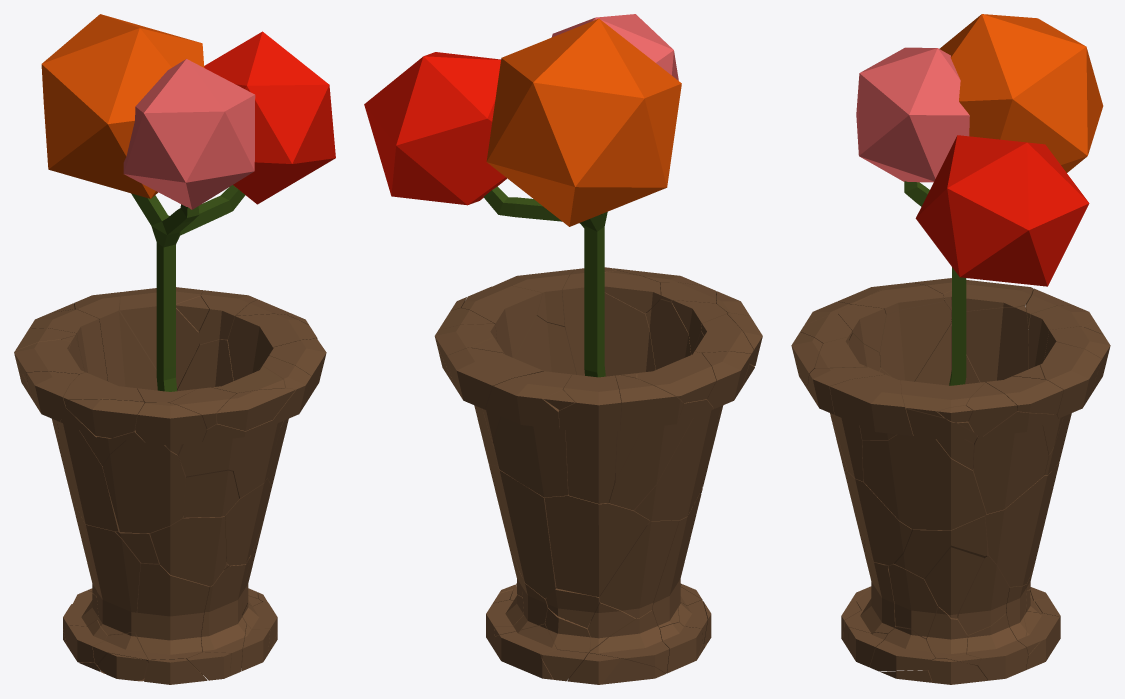
File: Vase.fbx
3 views of the same model, side by side, from view 1: azimuth 30°, elevation 25°; view 2: azimuth 150°, elevation 25°; view 3: azimuth 270°, elevation 25° (orthographic). The views are drawn at different scales.
Visible parts, largest first — view 1: Icosphere, Leaf_01, Leaf_02, Vase_cell.082, Flower_Holder, Vase_cell.039, Vase_cell.040, Vase_cell.091, Vase_cell.036, Vase_cell.068, Vase_cell.021, Vase_cell.092 (+33 smaller); view 2: Icosphere, Leaf_02, Vase_cell.036, Vase_cell.067, Vase_cell.050, Vase_cell.068, Flower_Holder, Vase_cell.069, Vase_cell.021, Vase_cell.090, Vase_cell.026, Vase_cell.086 (+29 smaller); view 3: Leaf_02, Icosphere, Leaf_01, Vase_cell.063, Vase_cell.059, Vase_cell.069, Vase_cell.090, Vase_cell.014, Vase_cell.004, Vase_cell.086, Vase_cell.011, Vase_cell.025 (+29 smaller).
Part boxes in pixels (x1,y1,x2,y2): Icosphere: [41, 14, 204, 198]; Leaf_01: [123, 59, 255, 209]; Leaf_02: [204, 31, 335, 204]; Vase_cell.082: [102, 430, 185, 533]; Flower_Holder: [131, 185, 245, 391]; Vase_cell.039: [135, 563, 209, 671]; Vase_cell.040: [83, 521, 140, 635]; Vase_cell.091: [150, 515, 226, 586]; Vase_cell.036: [74, 292, 157, 390]; Vase_cell.068: [232, 355, 311, 498]; Vase_cell.021: [57, 419, 119, 531]; Vase_cell.092: [200, 557, 250, 676]; Icosphere: [486, 18, 681, 226]; Leaf_02: [364, 52, 506, 205]; Vase_cell.036: [485, 371, 571, 497]; Vase_cell.067: [544, 494, 649, 596]; Vase_cell.050: [559, 374, 621, 503]; Vase_cell.068: [562, 267, 655, 376]; Flower_Holder: [484, 186, 607, 377]; Vase_cell.069: [489, 464, 556, 598]; Vase_cell.021: [634, 407, 717, 520]; Vase_cell.090: [608, 373, 713, 510]; Vase_cell.026: [599, 520, 678, 618]; Vase_cell.086: [447, 347, 543, 444]; Leaf_02: [915, 135, 1089, 286]; Icosphere: [939, 14, 1103, 172]; Leaf_01: [856, 47, 969, 182]; Vase_cell.063: [862, 434, 986, 530]; Vase_cell.059: [973, 411, 1057, 513]; Vase_cell.069: [985, 463, 1059, 586]; Vase_cell.090: [951, 305, 1028, 382]; Vase_cell.014: [879, 301, 951, 381]; Vase_cell.004: [829, 374, 913, 439]; Vase_cell.086: [1040, 342, 1101, 454]; Vase_cell.011: [893, 516, 988, 579]; Vase_cell.025: [846, 472, 912, 565].
Bounding box in the file's own units: 1.35 × 2.44 × 1.14.
